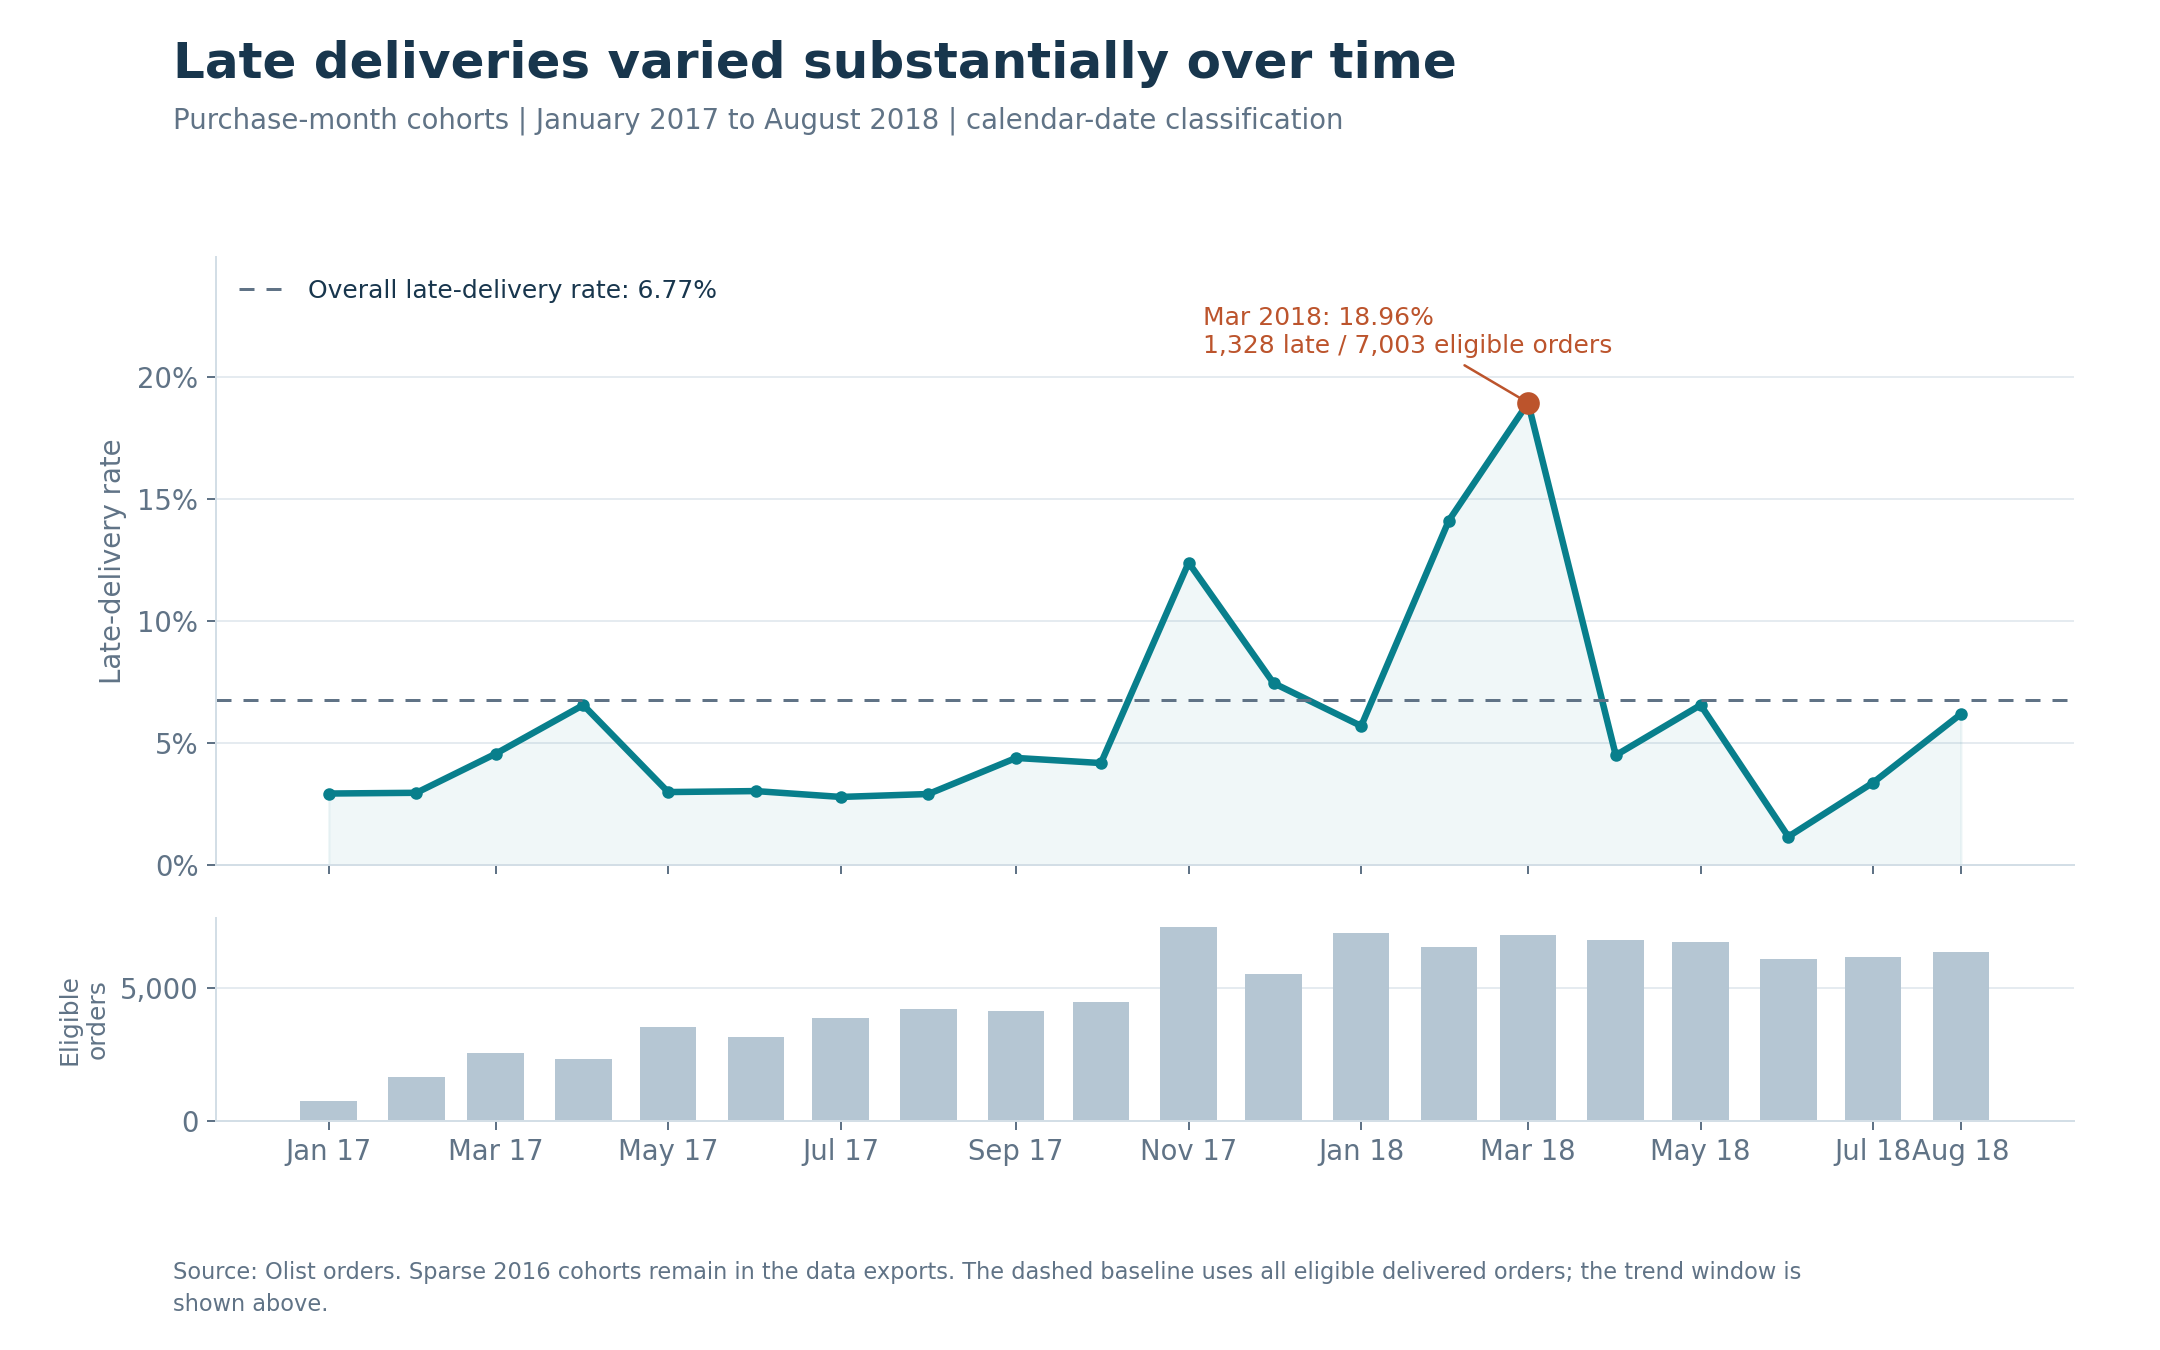

What the dashboard file says about the page in this screenshot:
{"tool":"tableau","page":{"name":"Delivery Performance Overview","canvas":[1000,800],"ordinal":0},"visuals":[{"type":"title","box":[8,8,822,42]},{"type":"filter","title":"Monthly Delivery Trend","param":"[federated.0r9suar010ynl912x4gas0us102e].[none:purchase_month:qk]","box":[830,8,162,69]},{"type":"worksheet","title":"Late Delivery KPI","mark":"Automatic","box":[8,50,411,138]},{"type":"worksheet","title":"Eligible Orders KPI","mark":"Automatic","box":[419,50,411,138]},{"type":"worksheet","title":"Monthly Delivery Trend","mark":"Automatic","rows":["Calculation_4139447103451136"],"cols":["purchase_month"],"box":[8,188,822,522]},{"type":"text","box":[8,710,984,82]}]}

Visuals, with their boxes on the page's 1000x800 design canvas (x1, y1, x2, y2). These are canvas units, not pixel positions in the 2160x1350 screenshot, which may show the page scaled, cropped or inside an application window:
title: 8/8/830/50
"Monthly Delivery Trend" filter: 830/8/992/77
"Late Delivery KPI" worksheet: 8/50/419/188
"Eligible Orders KPI" worksheet: 419/50/830/188
"Monthly Delivery Trend" worksheet: 8/188/830/710
text: 8/710/992/792
